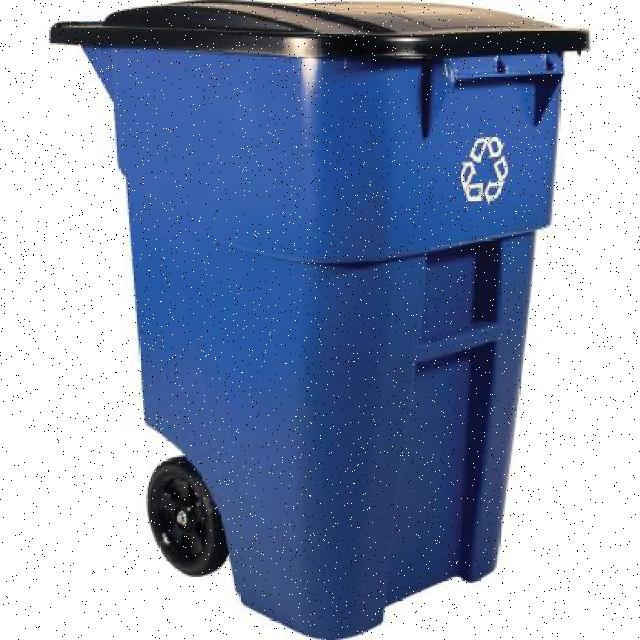garbage container: (42, 2, 598, 640)
